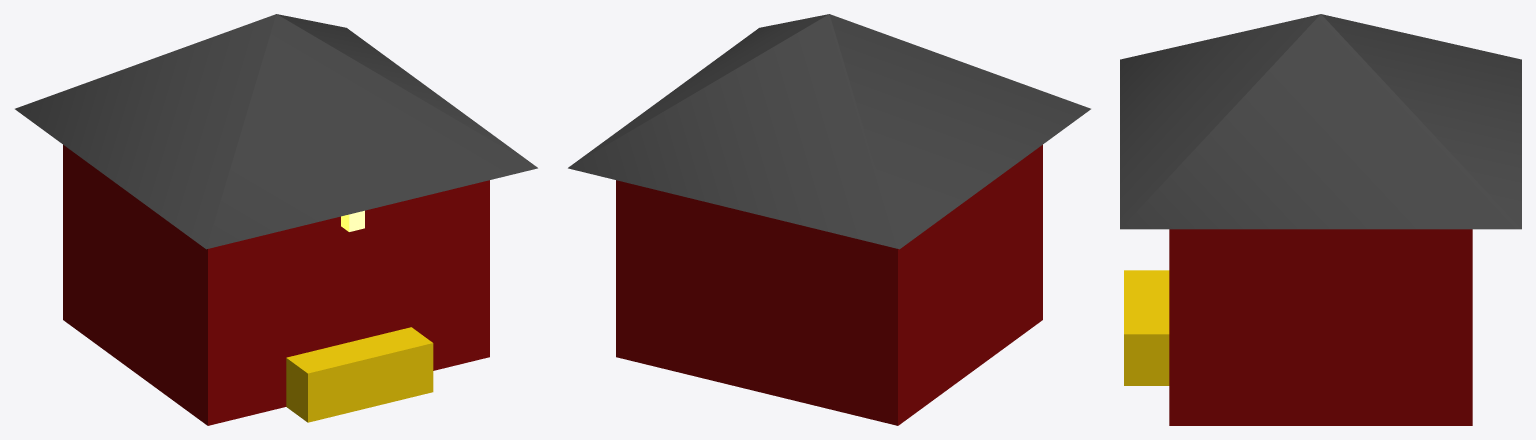
Rendered from cowbarn.glb.
3 renders of one model, left to right at view 1: azimuth 30°, elevation 25°; view 2: azimuth 150°, elevation 25°; view 3: azimuth 270°, elevation 25°, orthographic. The views are drawn at different scales.
Visible parts, largest first — view 1: cowbarn; view 2: cowbarn; view 3: cowbarn.
Boxes of the visible parts, x1,y1,x2,y2 form: cowbarn: (15,14,537,425); cowbarn: (568,14,1090,425); cowbarn: (1120,14,1521,425).
Size of the model in its own units: 1.06 by 0.99 by 1.06.
